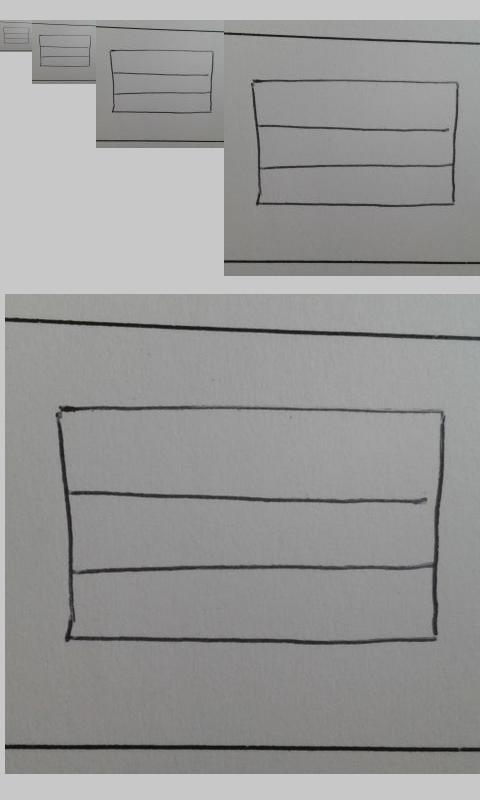list_view: (53, 398, 450, 648), (250, 77, 460, 209), (108, 48, 215, 115), (38, 32, 92, 69), (2, 26, 31, 45)
